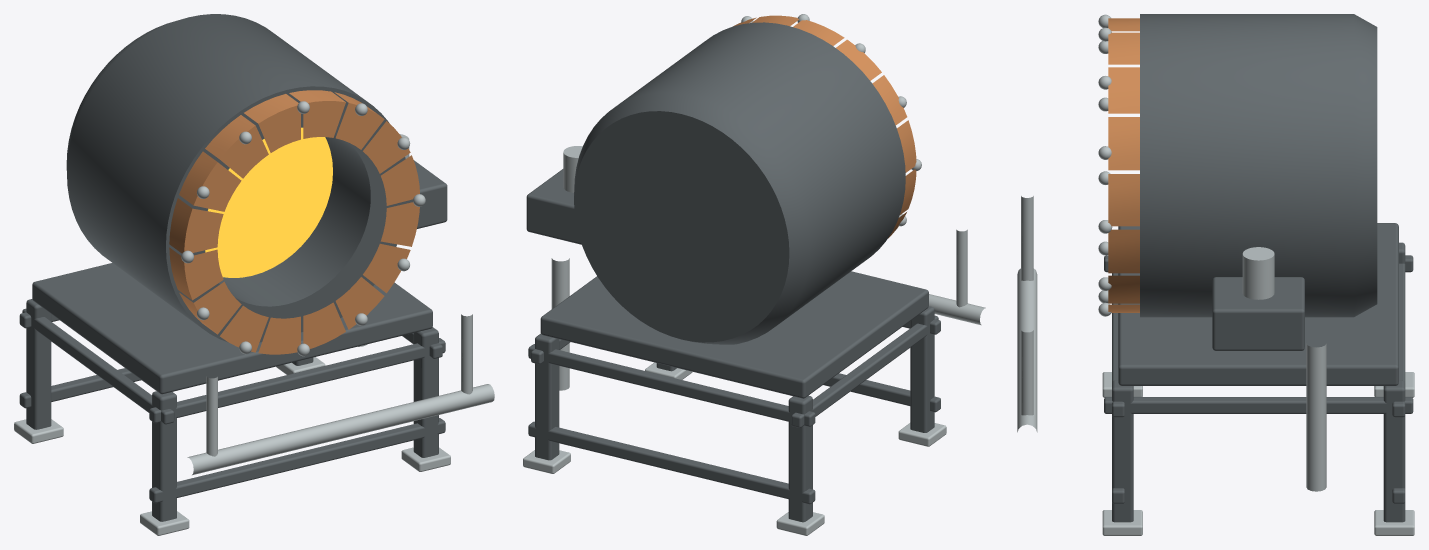
File: glassblowing-studio-and-gallery-reheating-furnace-7b8cd435__29584.glb
3 renders of one model, left to right at view 1: azimuth 30°, elevation 25°; view 2: azimuth 150°, elevation 25°; view 3: azimuth 270°, elevation 25°, orthographic. The views are drawn at different scales.
Parts seen in each view (by area): view 1: reheating-furnace; view 2: reheating-furnace; view 3: reheating-furnace.
Part boxes in pixels (x1,y1,x2,y2): reheating-furnace: (14, 14, 494, 535); reheating-furnace: (523, 14, 985, 535); reheating-furnace: (1017, 14, 1414, 535).
Bounding box in the file's own units: 1.49 × 1.64 × 1.38.
